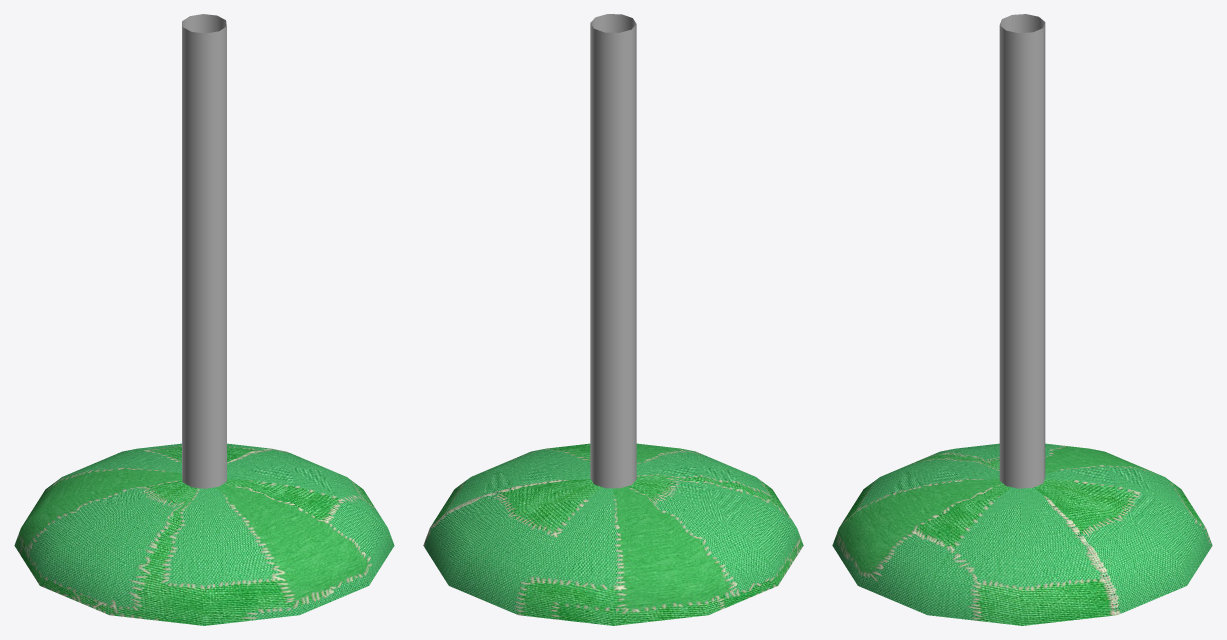
The model's file is flowerStalkMain.fbx.
3 views of the same model, side by side, from view 1: azimuth 30°, elevation 25°; view 2: azimuth 150°, elevation 25°; view 3: azimuth 270°, elevation 25° (orthographic).
Parts seen in each view (by area): view 1: flowerStalk_geo; view 2: flowerStalk_geo; view 3: flowerStalk_geo.
Part boxes in pixels (x1,y1,x2,y2): flowerStalk_geo: (14,14,394,625); flowerStalk_geo: (423,14,803,625); flowerStalk_geo: (832,14,1212,625).
Bounding box in the file's own units: 2886 × 4371 × 2886.
